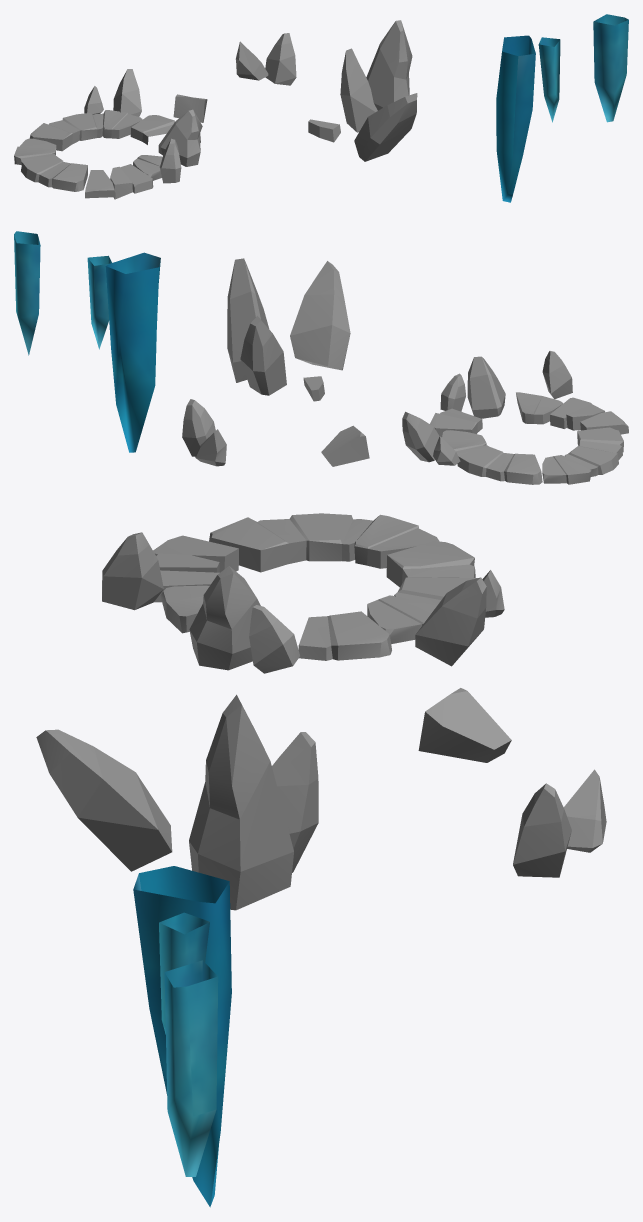
Rendered from f_2105_Thing_02.FBX.
The picture shows the model from 3 angles, top to bottom: view 1: azimuth 30°, elevation 25°; view 2: azimuth 150°, elevation 25°; view 3: azimuth 270°, elevation 25°; orthographic projection. The views are drawn at different scales.
Visible parts, largest first — view 1: chuansong, chuansong001, chuansong0022; view 2: chuansong, chuansong001, chuansong0022; view 3: chuansong, chuansong001, chuansong0022.
Boxes of the visible parts, x1=… form: chuansong: x1=14, y1=69, x2=202, y2=199; chuansong001: x1=173, y1=20, x2=417, y2=161; chuansong0022: x1=496, y1=14, x2=628, y2=202; chuansong: x1=402, y1=351, x2=628, y2=484; chuansong001: x1=182, y1=258, x2=369, y2=466; chuansong0022: x1=14, y1=231, x2=160, y2=452; chuansong: x1=102, y1=513, x2=504, y2=673; chuansong001: x1=36, y1=688, x2=606, y2=910; chuansong0022: x1=133, y1=866, x2=231, y2=1207.
Bounding box in the file's own units: 2673 × 918 × 1166.
